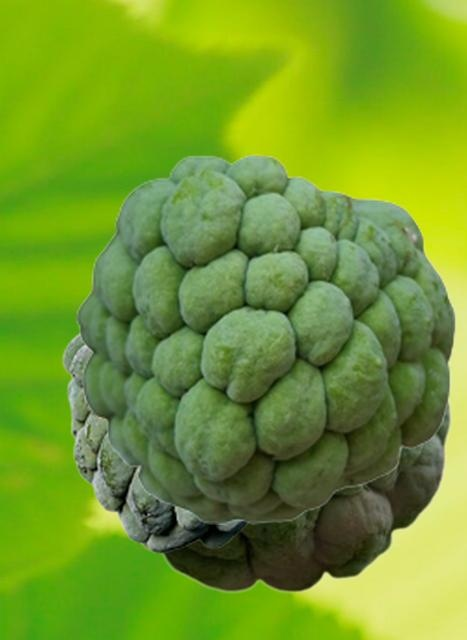atis: (75, 154, 455, 523), (137, 400, 452, 593), (61, 330, 252, 553)
